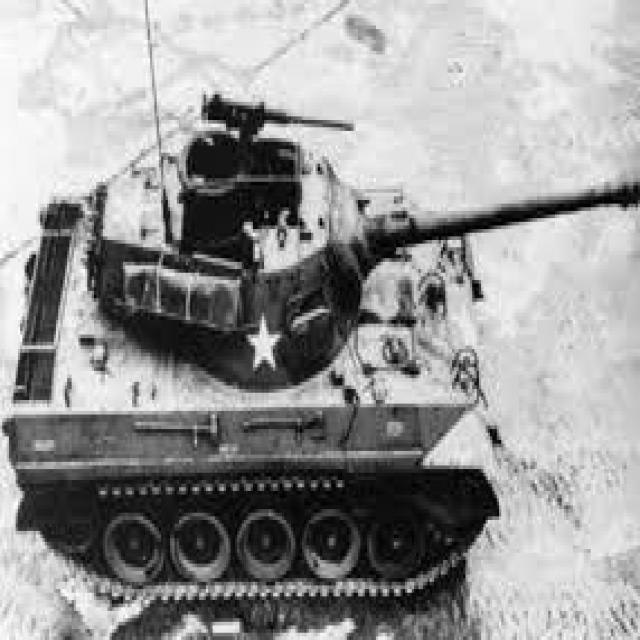Tanks: (19, 102, 505, 611)
